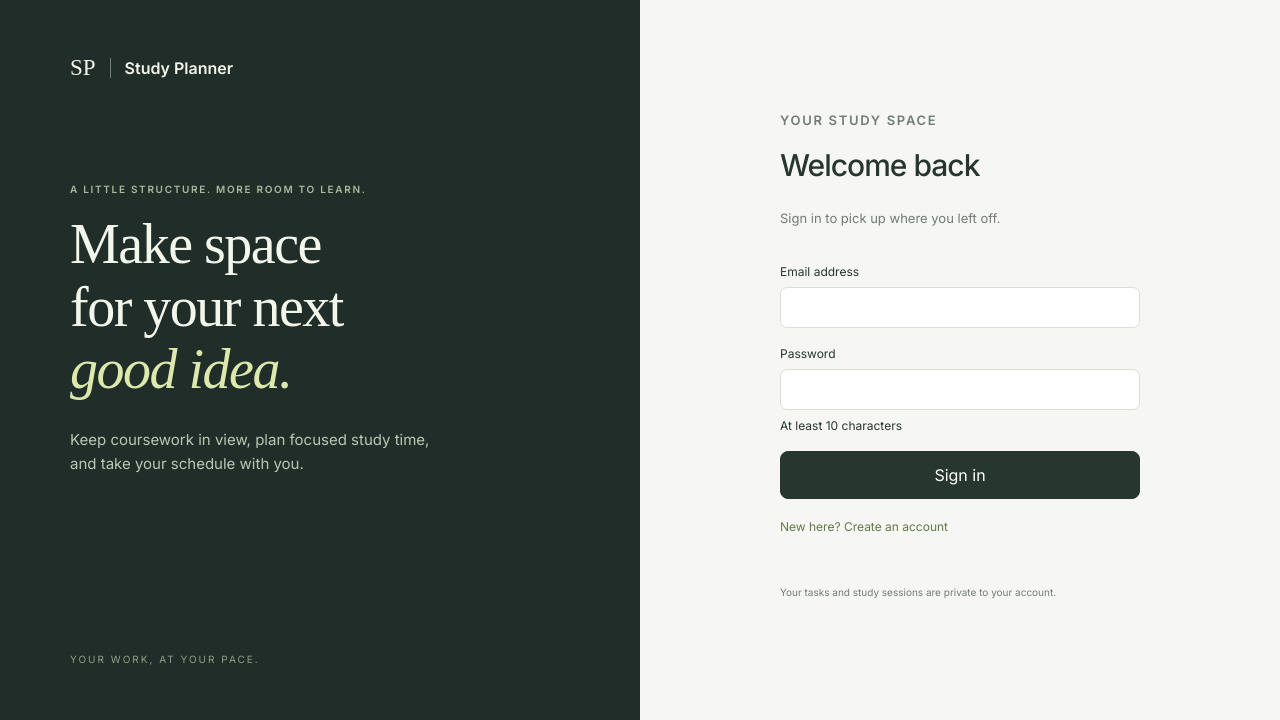
client behaviour › displays API errors without signing in
Type "alex@example.com" into the field labelled "Email address" at (960, 307), box [780, 287, 1140, 328]
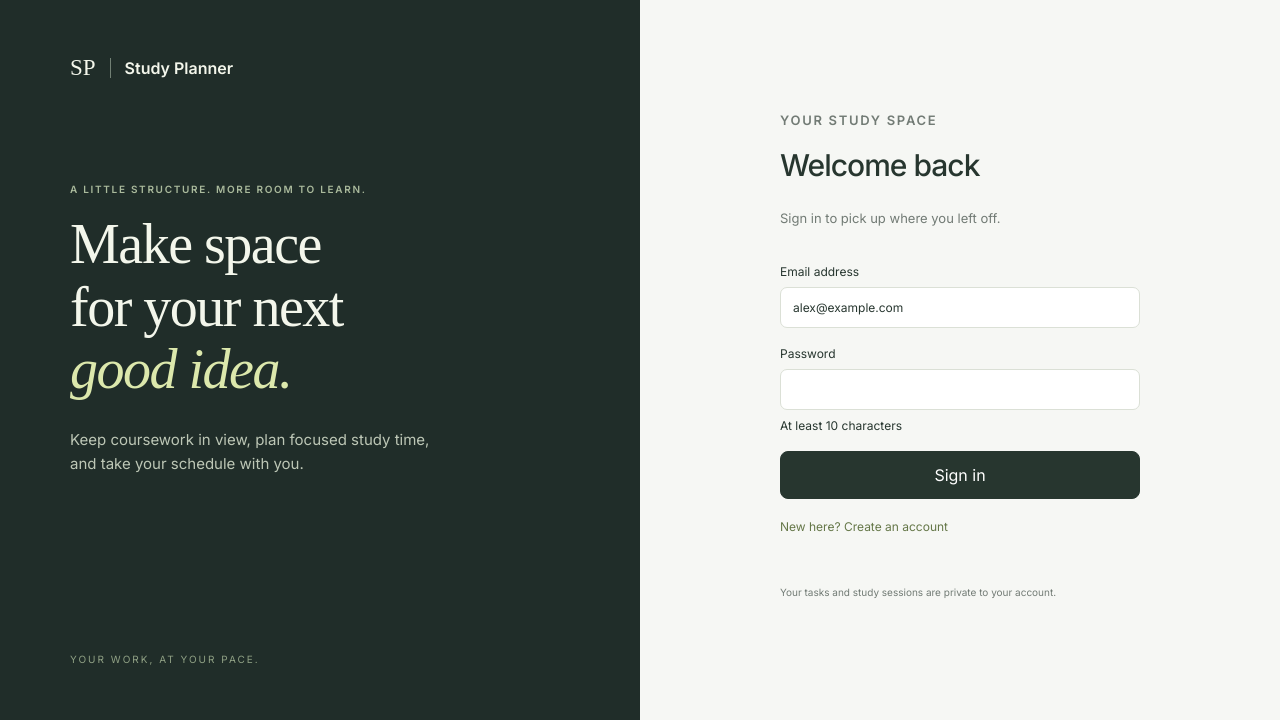
Type "incorrect-password" into the password field labelled "Password At least 10 characters" at (960, 389), box [780, 369, 1140, 410]
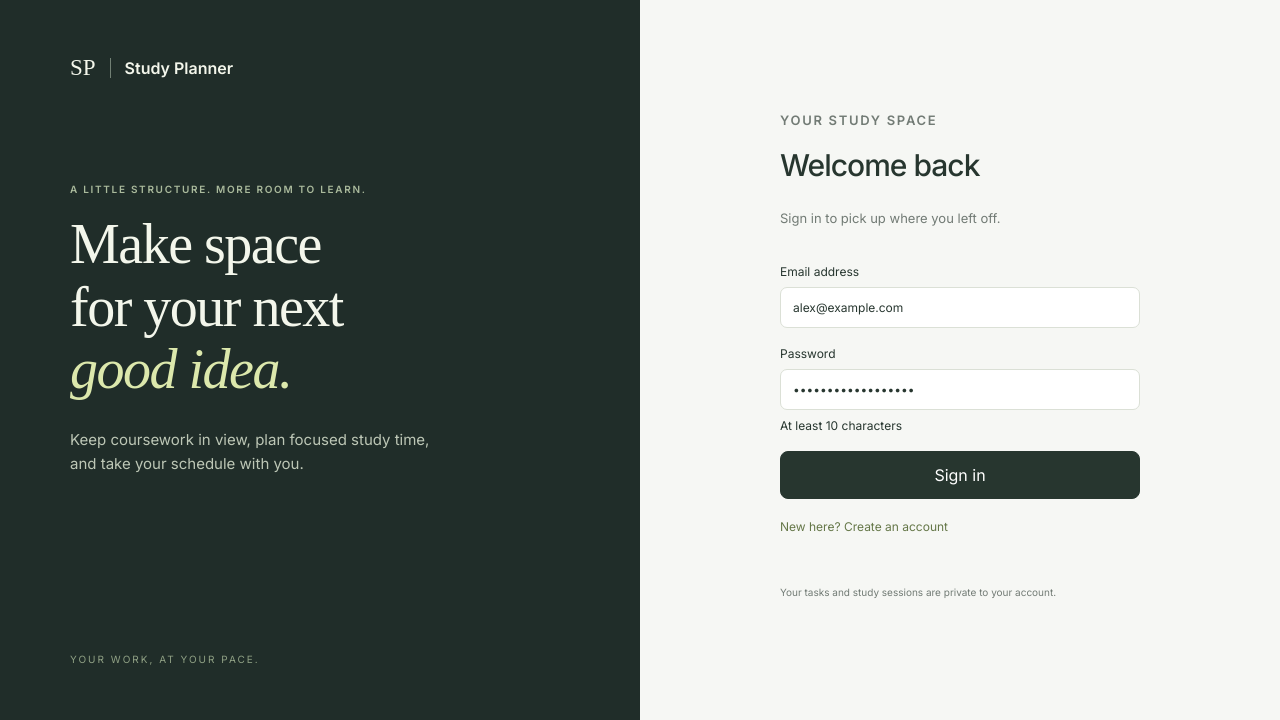
Submit the form "Sign in", box [780, 264, 1140, 499]
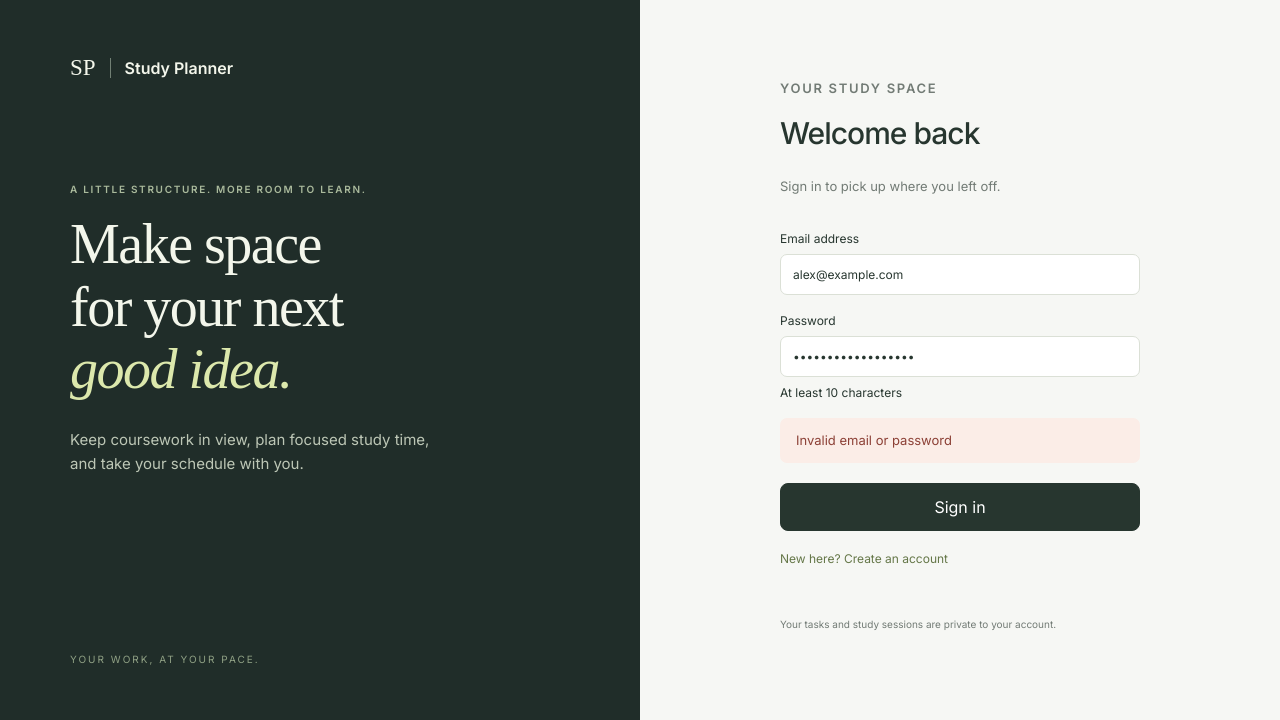
Now the message reads "Invalid email or password", box [796, 432, 952, 448]
